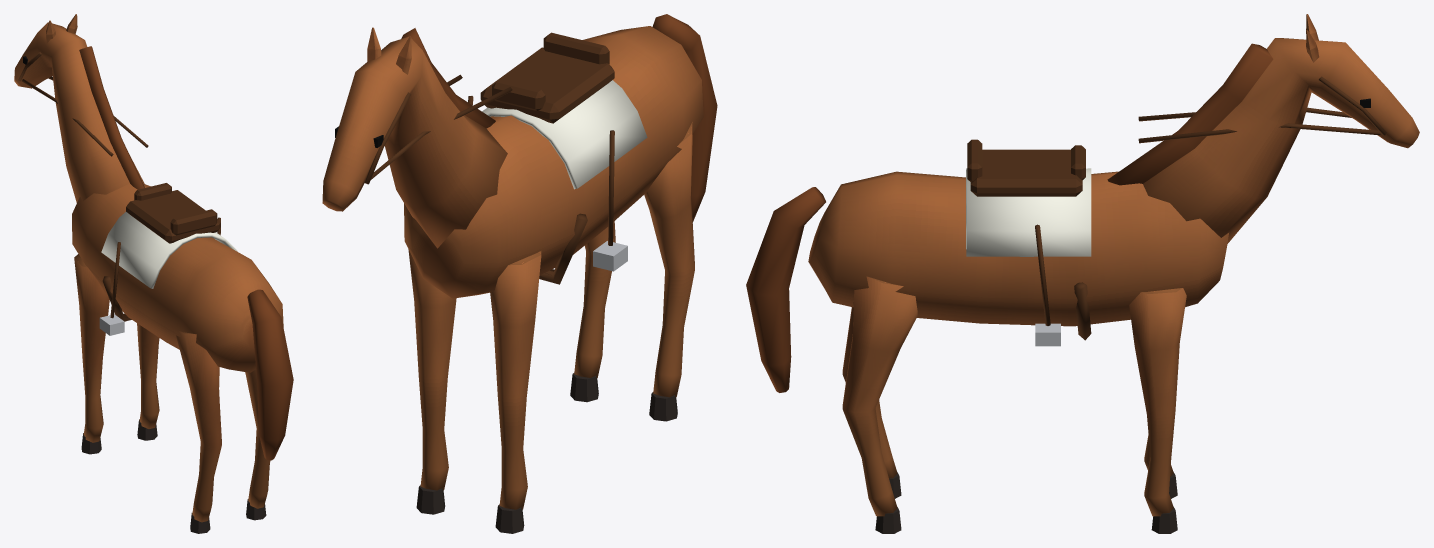
File: horse_chestnut.glb
3 views of the same model, side by side, from view 1: azimuth 30°, elevation 25°; view 2: azimuth 150°, elevation 25°; view 3: azimuth 270°, elevation 25° (orthographic). The views are drawn at different scales.
Visible parts, largest first — view 1: Body, Tack, Hair, Leg_HL, Leg_FL, Leg_FR, Leg_HR; view 2: Body, Tack, Leg_FL, Leg_HL, Leg_FR, Hair, Leg_HR; view 3: Body, Tack, Hair, Leg_HR, Leg_FR, Leg_HL.
Boxes of the visible parts, x1=… form: Body: x1=14, y1=14, x2=283, y2=372; Tack: x1=18, y1=52, x2=237, y2=335; Hair: x1=79, y1=46, x2=293, y2=460; Leg_HL: x1=176, y1=331, x2=221, y2=533; Leg_FL: x1=74, y1=254, x2=109, y2=454; Leg_FR: x1=137, y1=323, x2=159, y2=440; Leg_HR: x1=245, y1=369, x2=270, y2=520; Body: x1=322, y1=26, x2=703, y2=298; Tack: x1=364, y1=32, x2=647, y2=284; Leg_FL: x1=490, y1=251, x2=541, y2=533; Leg_HL: x1=644, y1=122, x2=694, y2=421; Leg_FR: x1=408, y1=249, x2=456, y2=514; Hair: x1=401, y1=14, x2=717, y2=222; Leg_HR: x1=570, y1=221, x2=615, y2=402; Body: x1=808, y1=14, x2=1419, y2=326; Tack: x1=966, y1=76, x2=1386, y2=346; Hair: x1=746, y1=43, x2=1273, y2=392; Leg_HR: x1=842, y1=276, x2=917, y2=533; Leg_FR: x1=1129, y1=288, x2=1186, y2=533; Leg_HL: x1=842, y1=307, x2=901, y2=498.
Size of the model in its own units: 0.82 by 2.5 by 3.12.
Materials: 8 (2 with a texture image).
